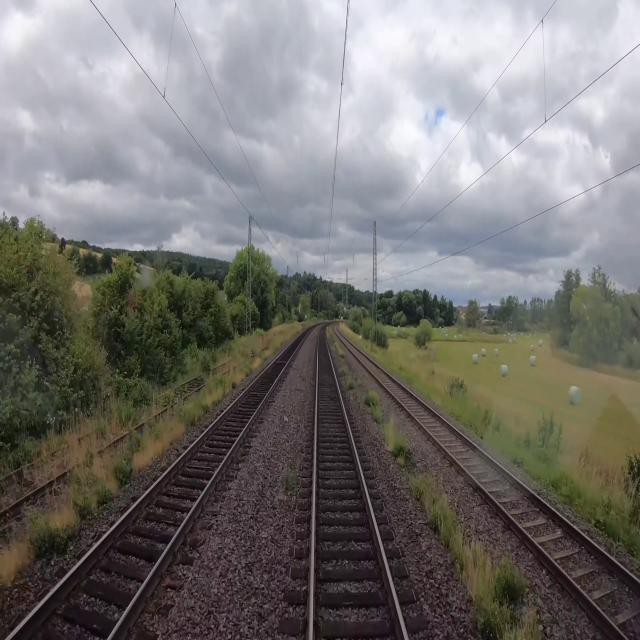Plant: (0, 318, 330, 594), (0, 342, 236, 509), (408, 471, 552, 639), (363, 388, 409, 468), (339, 364, 362, 391), (283, 469, 298, 492), (333, 339, 344, 358)
